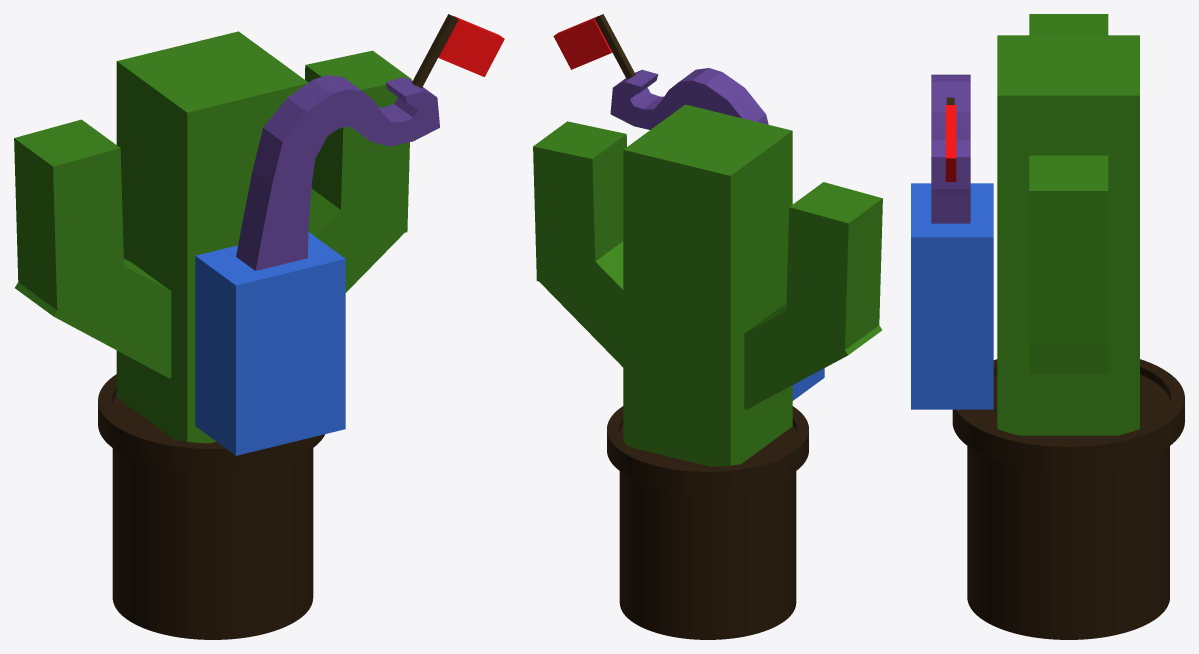
File: Character_flag_red.fbx
The picture shows the model from 3 angles, left to right: view 1: azimuth 30°, elevation 25°; view 2: azimuth 150°, elevation 25°; view 3: azimuth 270°, elevation 25°; orthographic projection. The views are drawn at different scales.
Parts seen in each view (by area): view 1: Cube.008, Cube.009, Cube.010, Cube.011, Cube.012; view 2: Cube.008, Cube.010, Cube.011, Cube.012; view 3: Cube.008, Cube.009, Cube.010, Cube.011.
Boxes of the visible parts, <box> form: Cube.008: <box>14,31,411,639</box>; Cube.009: <box>195,232,345,455</box>; Cube.010: <box>236,75,439,270</box>; Cube.011: <box>438,16,504,76</box>; Cube.012: <box>412,14,458,88</box>; Cube.008: <box>533,104,882,639</box>; Cube.010: <box>610,68,768,129</box>; Cube.011: <box>553,16,612,69</box>; Cube.012: <box>595,14,635,78</box>; Cube.008: <box>952,14,1184,639</box>; Cube.009: <box>911,183,993,409</box>; Cube.010: <box>931,74,970,223</box>; Cube.011: <box>945,105,956,181</box>.
Bounding box in the file's own units: 331 × 448 × 189.
